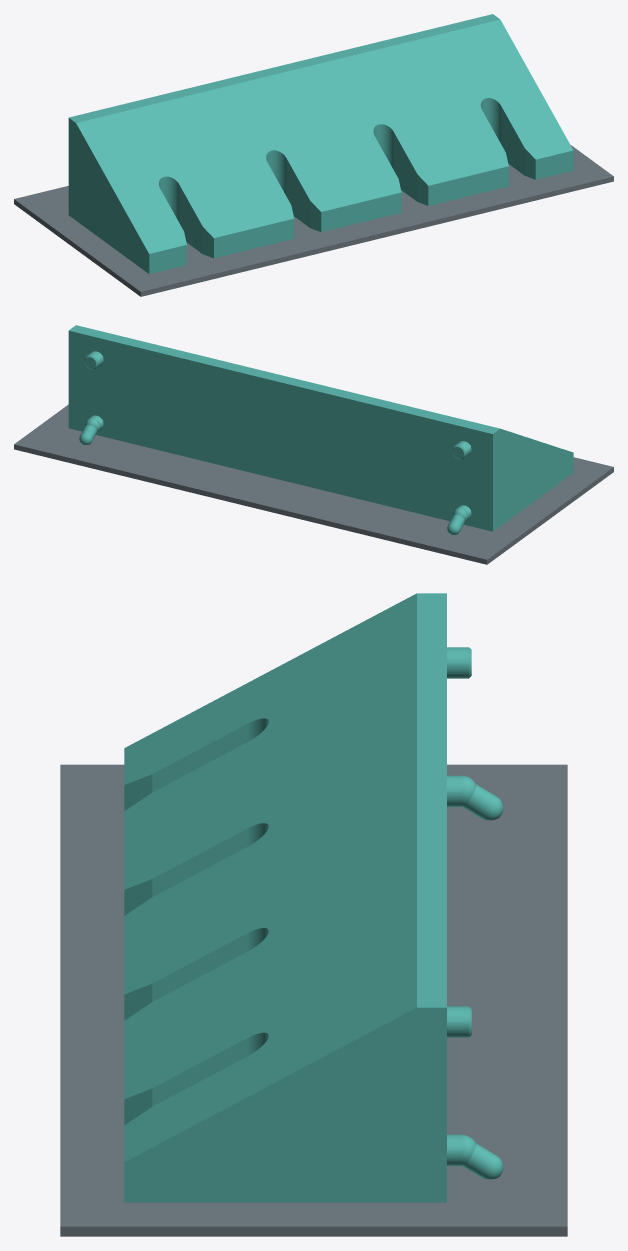
File: part-sd03-inverted-d__v2__print-flat-top.glb
3 views of the same model, one above another, from view 1: azimuth 30°, elevation 25°; view 2: azimuth 150°, elevation 25°; view 3: azimuth 270°, elevation 25° (orthographic). The views are drawn at different scales.
Visible parts, largest first — view 1: Actual holder mesh, Print bed; view 2: Actual holder mesh, Print bed; view 3: Actual holder mesh, Print bed.
Part boxes in pixels (x1,y1,x2,y2): Actual holder mesh: (68,14,573,273); Print bed: (14,145,613,296); Actual holder mesh: (68,325,573,534); Print bed: (14,404,613,564); Actual holder mesh: (124,593,503,1202); Print bed: (60,764,567,1236).
Size of the model in its own units: 0.196 by 0.0406 by 0.091.
